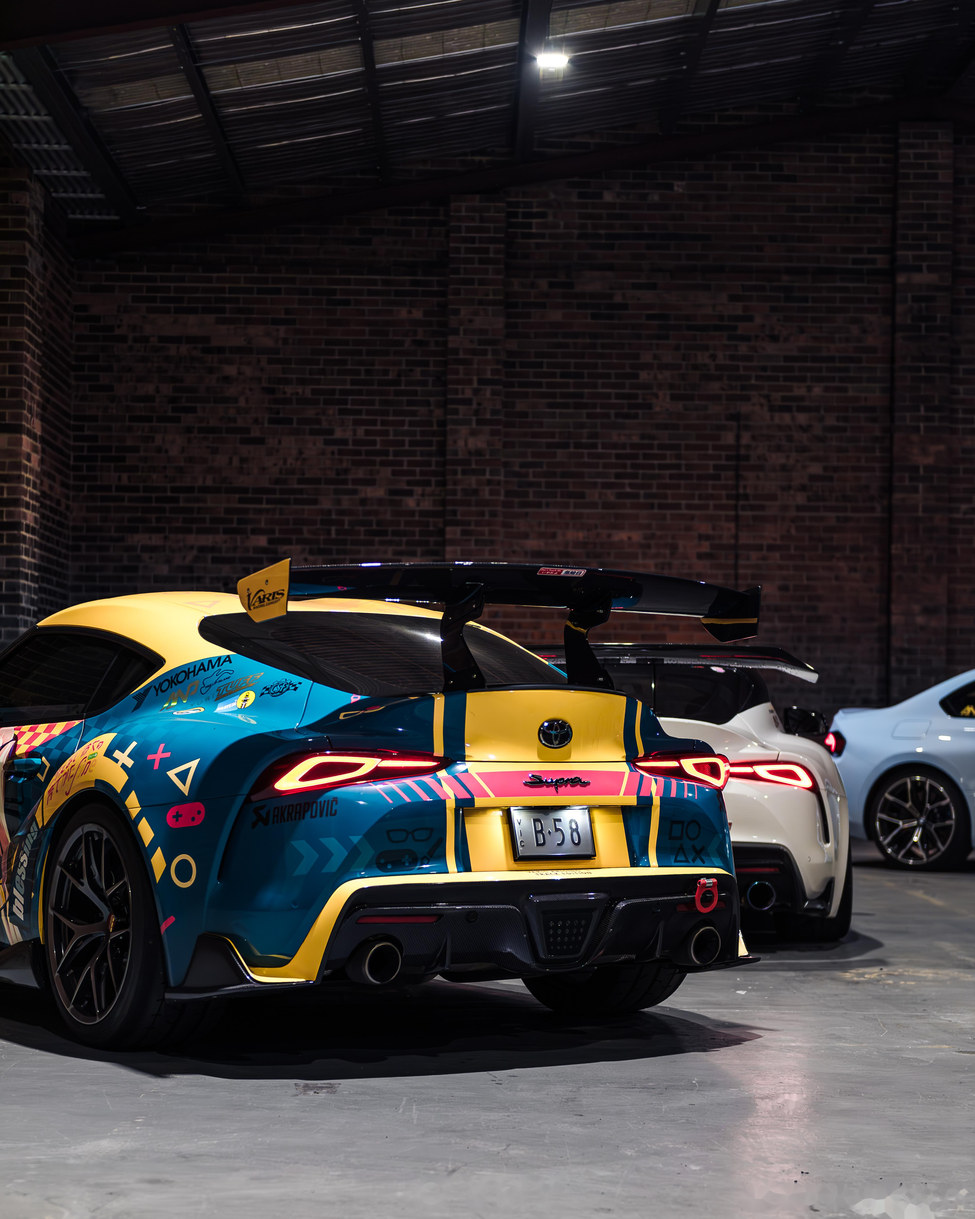other: (0, 582, 760, 1080), (535, 649, 856, 958)
